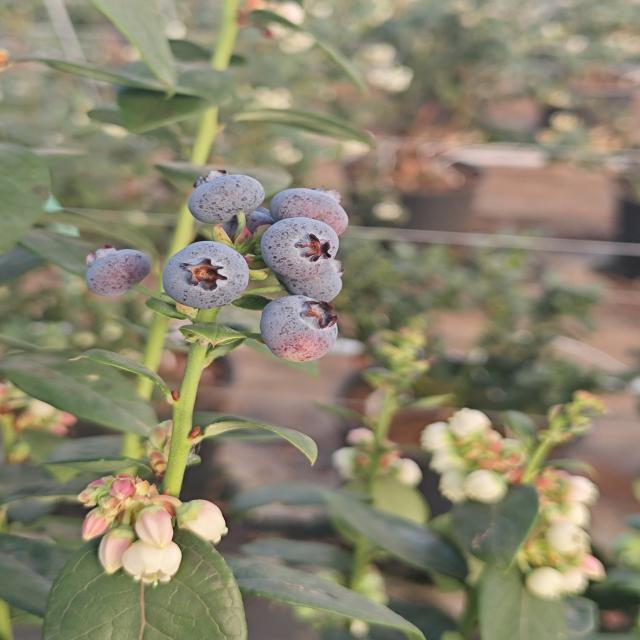ripe: (160, 239, 252, 311), (258, 294, 342, 364), (267, 178, 359, 238), (261, 217, 341, 280), (185, 172, 266, 226), (276, 256, 352, 306), (82, 246, 153, 299)
